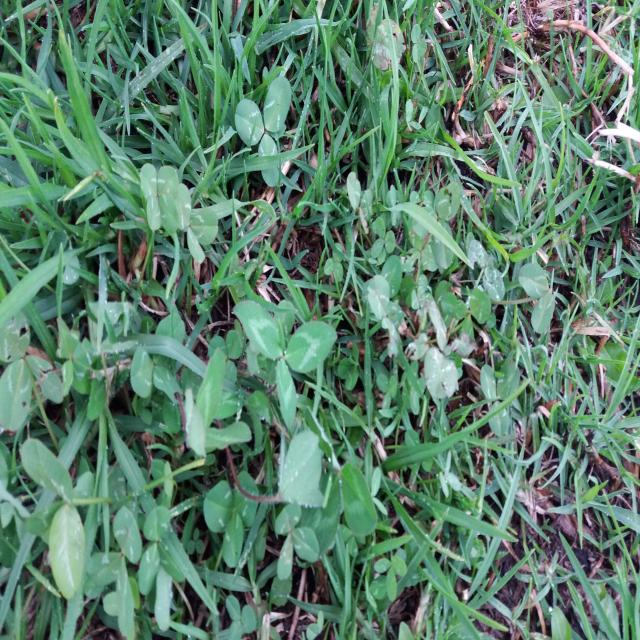Four Leaf Clover: (140, 164, 179, 234)
